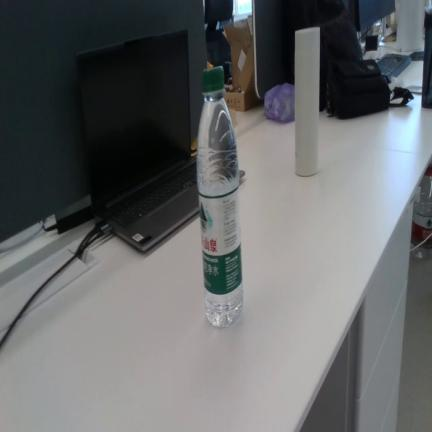bottle: (196, 67, 243, 327)
